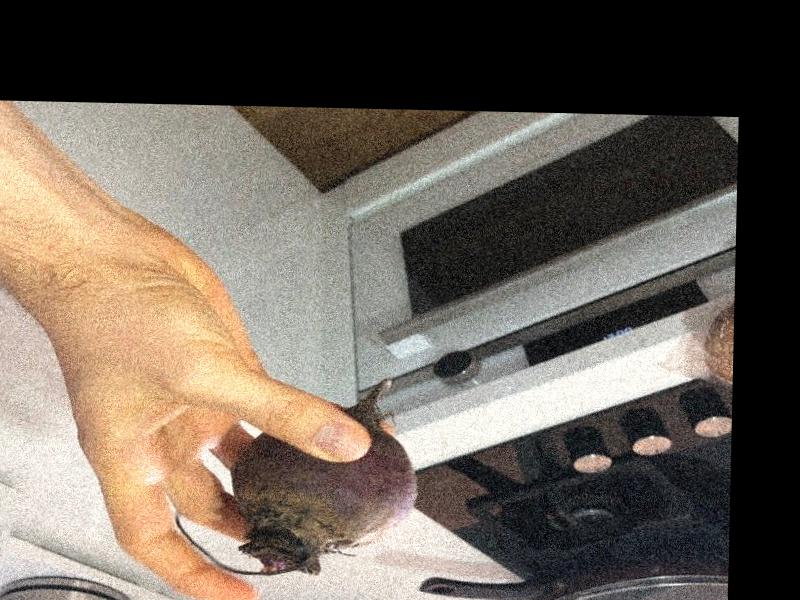Beet: (177, 374, 418, 578)
